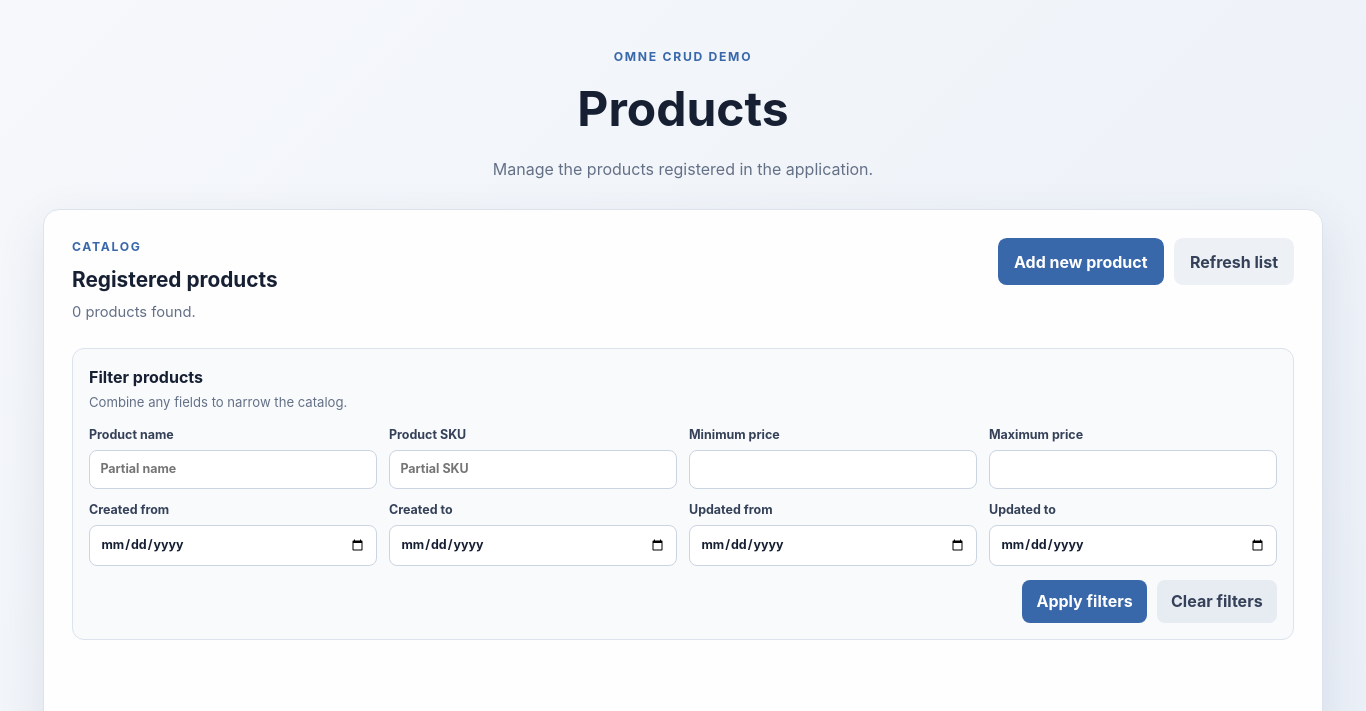
Scenario: App › sends CreateProductRequest with a normalized SKU
Check: the heading "Registered products" is shown, box [72,264,278,295]
Click the button "Add new product". click: [1081, 262]
box: [998,238,1164,285]
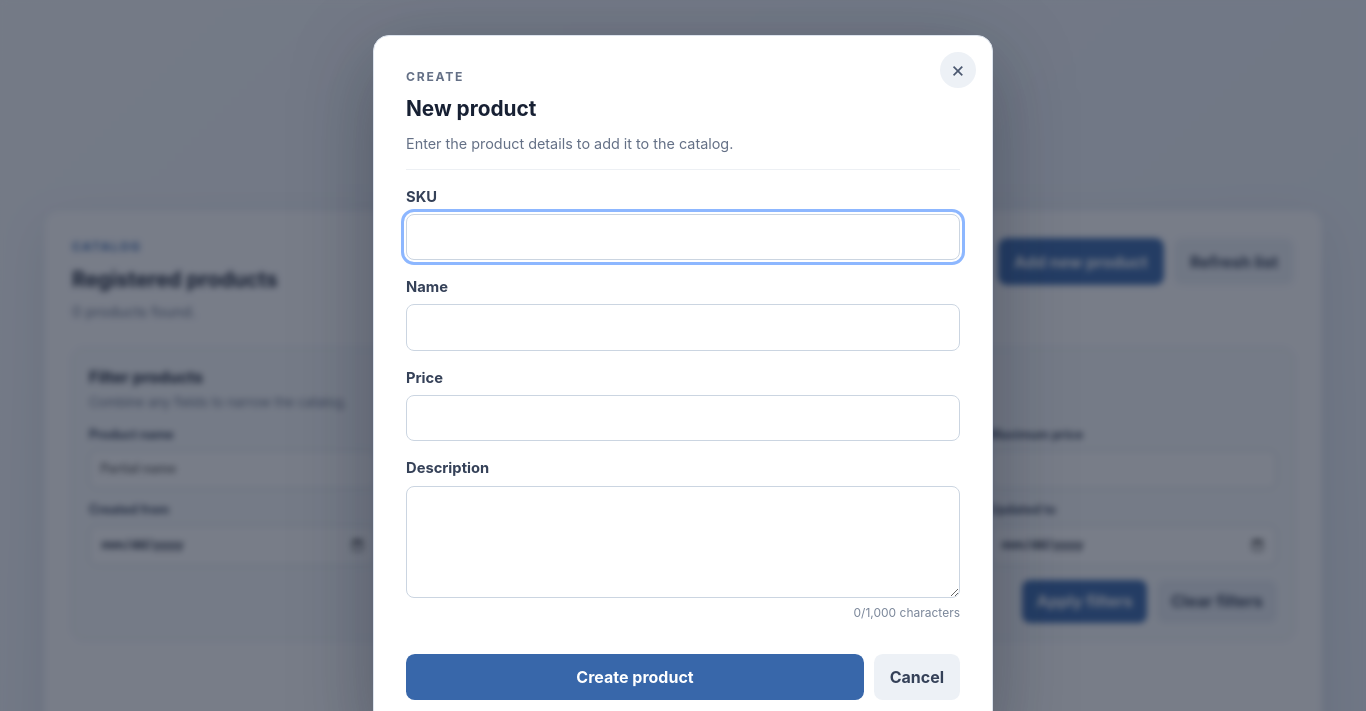
Type "sku-100" into the field labelled "SKU". click: [683, 237]
box: [406,214,960,260]
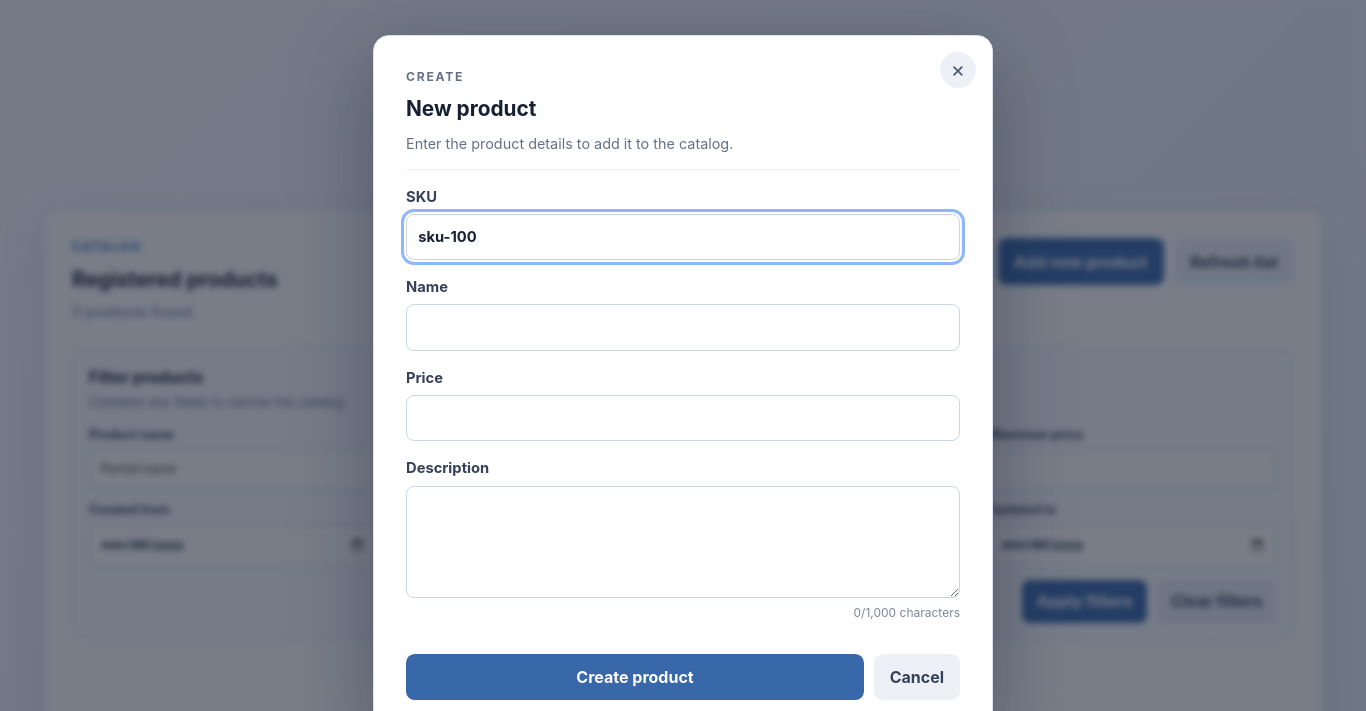
Type "Monitor" into the field labelled "Name". click: [683, 328]
box: [406,304,960,351]
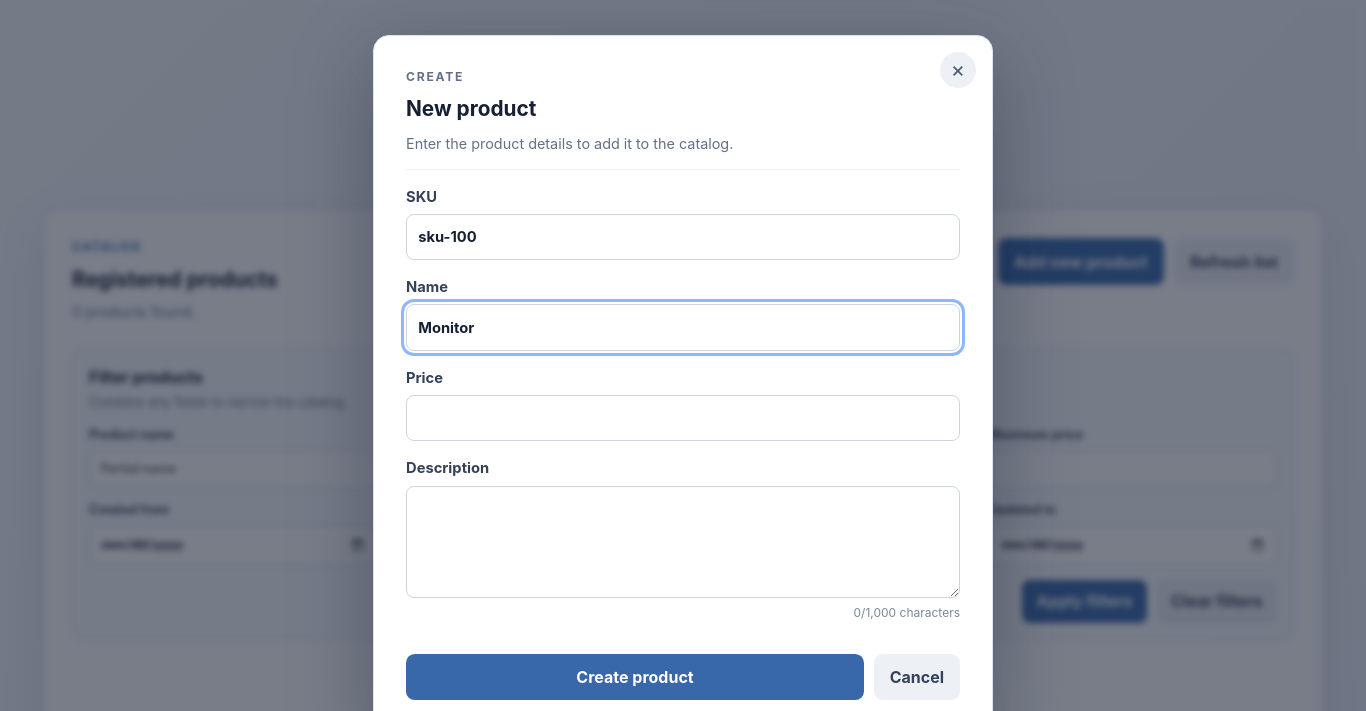
Type "1599.90" into the number field labelled "Price". click: [683, 418]
box: [406,395,960,442]
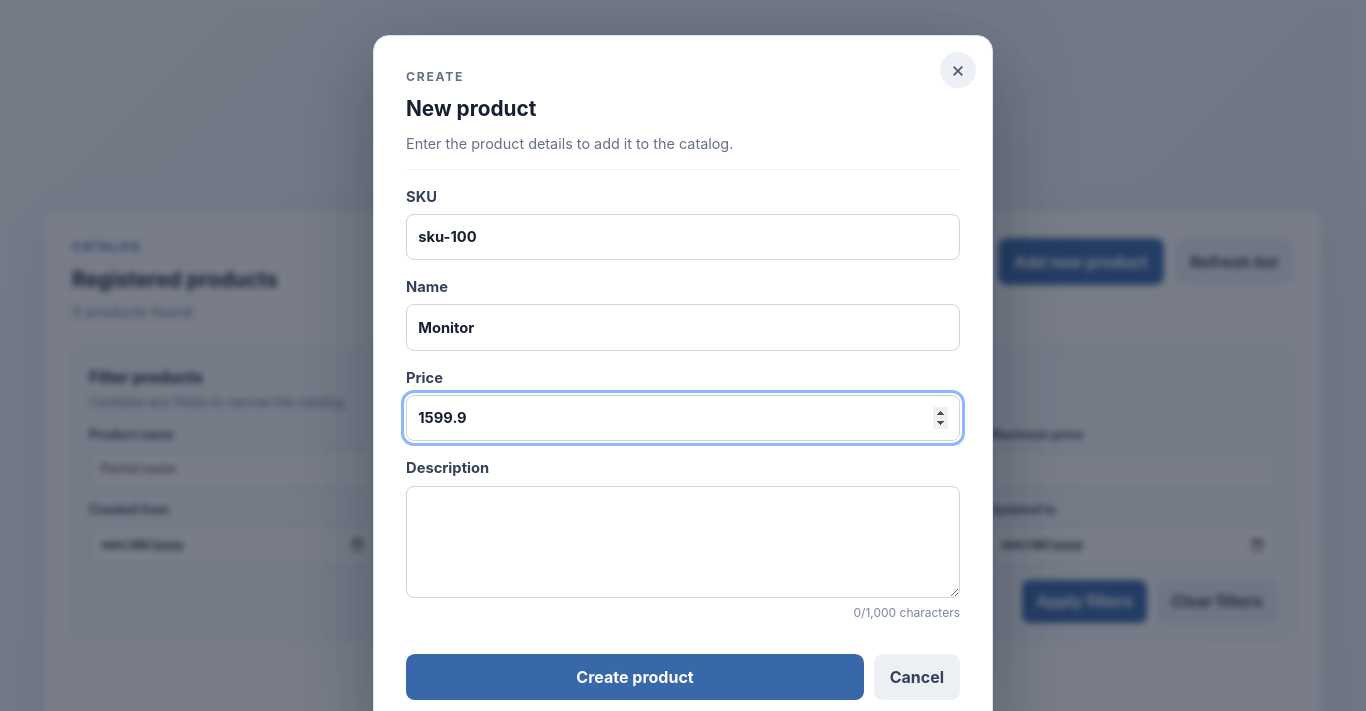
Type "Monitor for a workstation" into the text box labelled "Description 0/1,000 characters". click: [683, 542]
box: [406,486,960,598]
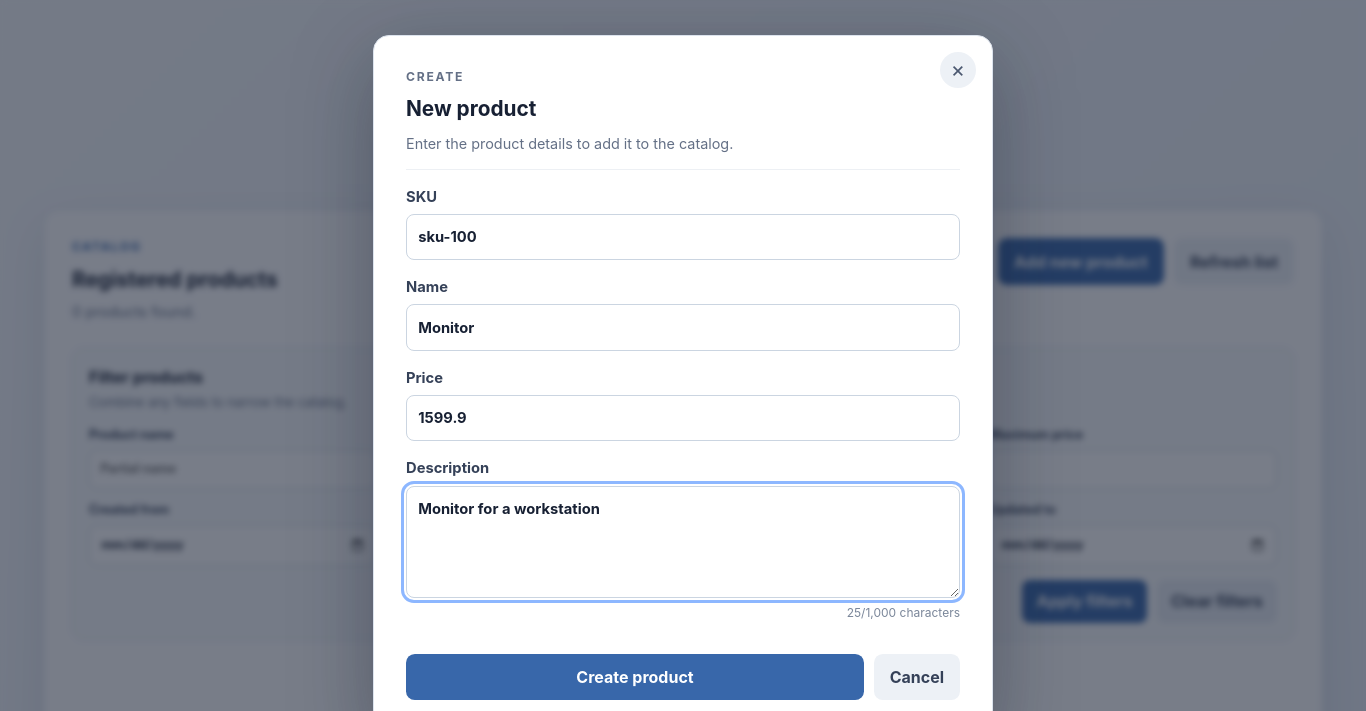
Click the button "Create product". click: [635, 677]
box: [406,654,864,700]
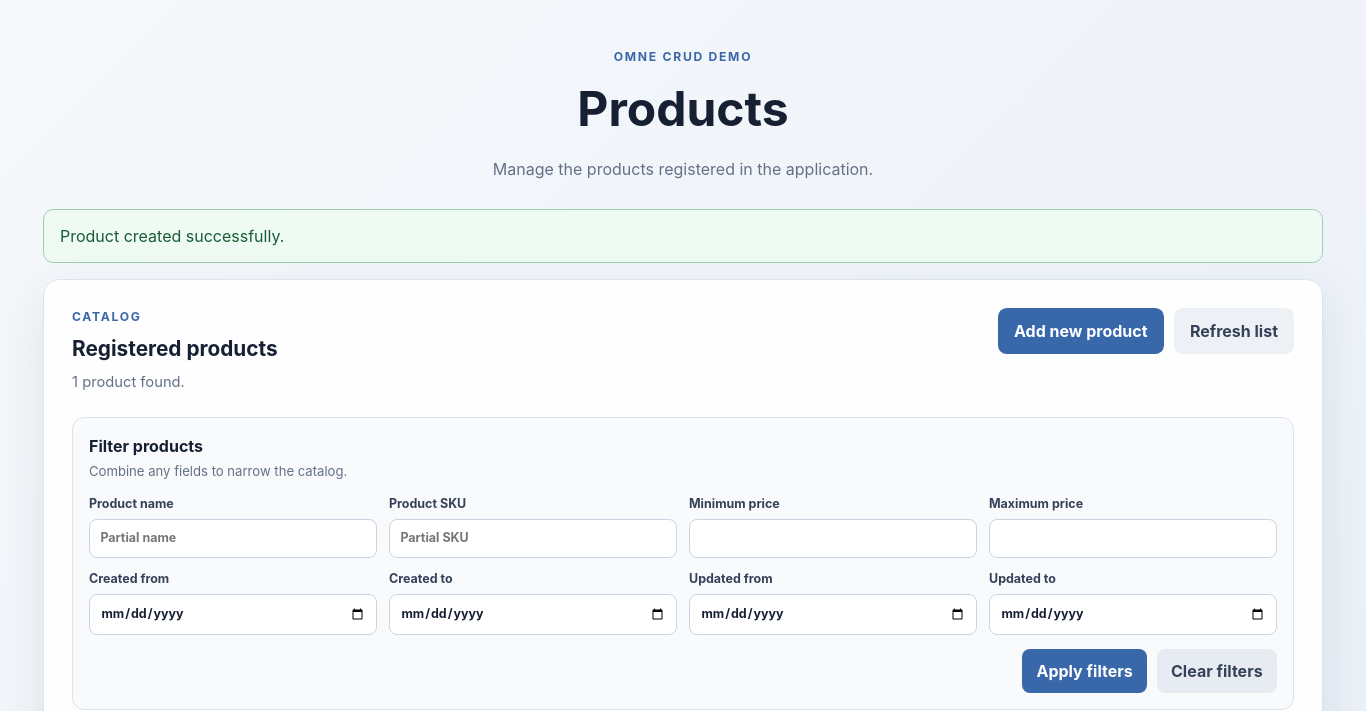
Check: the text "Product created successfully." is shown, box [43,209,1323,263]
